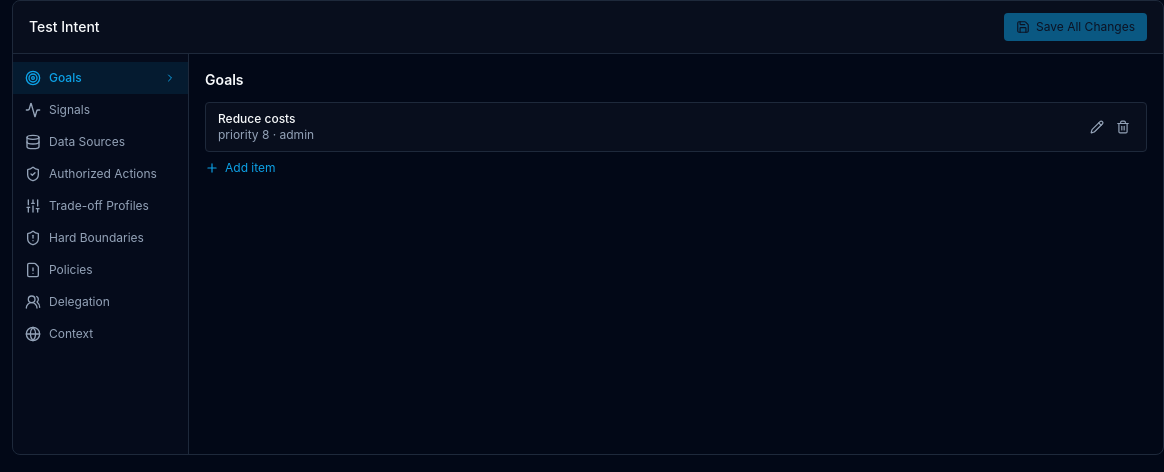
Scenario: IntentDocEditor › navigates to Policies section
Expected: the text "Policies" is shown, [49, 262, 93, 277]
Click the button "Policies" at (100, 270), box [13, 254, 188, 286]
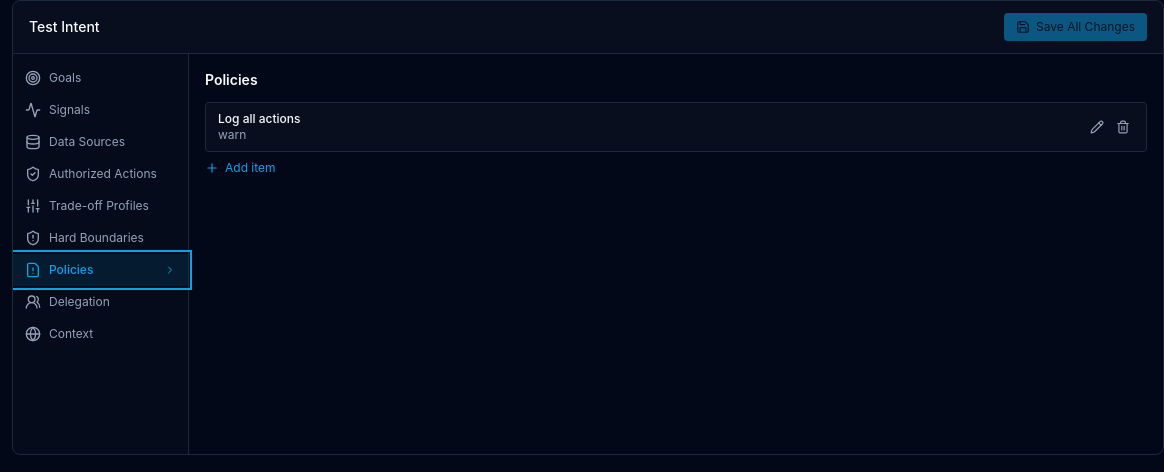
Result: the text "Log all actions" is shown at [218, 111, 300, 126]
